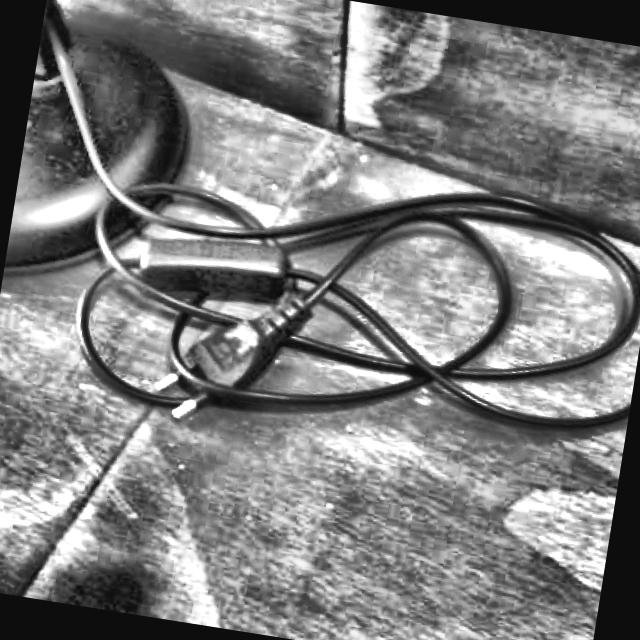Cable: (0, 28, 640, 486)
